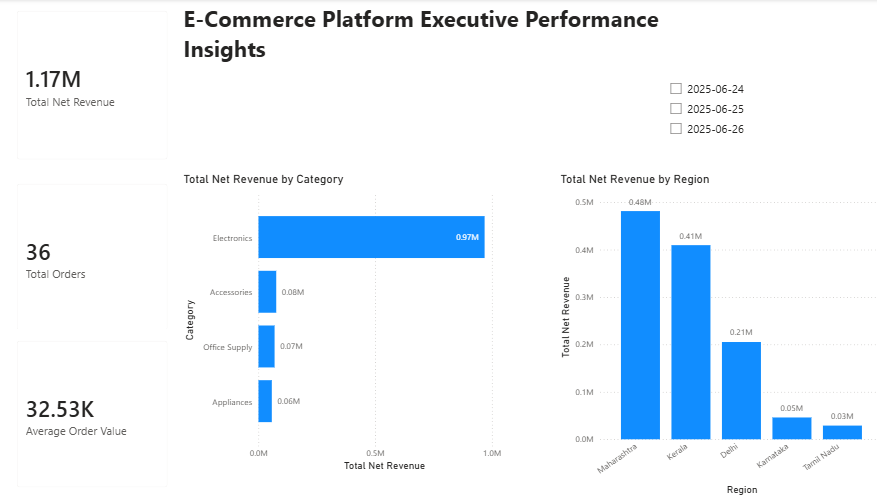

Layout of this report page (visuals, bound fields, positions):
{"tool":"powerbi","page":{"name":"Page 1","canvas":[1280,720],"ordinal":0},"visuals":[{"type":"cardVisual","fields":{"Data":["_All_Measures.Total Net Revenue"]},"box":[10.1,0,252,248.6],"z":0},{"type":"cardVisual","fields":{"Data":["_All_Measures.Total Orders"]},"box":[10.1,248.6,252,245.2],"z":1},{"type":"cardVisual","fields":{"Data":["_All_Measures.Average Order Value"]},"box":[10.1,475.4,252,245.2],"z":2},{"type":"clusteredBarChart","fields":{"Category":["dim_products.Category"],"Y":["_All_Measures.Total Net Revenue"]},"box":[262,248.6,515.7,453.5],"z":3},{"type":"clusteredColumnChart","fields":{"Category":["dim_customers.Region"],"Y":["_All_Measures.Total Net Revenue"]},"box":[777.7,248.6,502.3,472],"z":4},{"type":"slicer","fields":{"Values":["fact_sales.OrderDate"]},"box":[955.8,85.7,324.2,119.3],"z":5},{"type":"textbox","box":[262,0,821.4,110.9],"z":6}]}

Visuals, with their boxes in screenshot pixels (x1, y1, x2, y2), scaled from the page's 1280x720 canvas onto the 883x503 screenshot:
cardVisual - _All_Measures.Total Net Revenue: x1=7, y1=0, x2=181, y2=174
cardVisual - _All_Measures.Total Orders: x1=7, y1=174, x2=181, y2=345
cardVisual - _All_Measures.Average Order Value: x1=7, y1=332, x2=181, y2=502
clusteredBarChart - dim_products.Category x _All_Measures.Total Net Revenue: x1=181, y1=174, x2=536, y2=490
clusteredColumnChart - dim_customers.Region x _All_Measures.Total Net Revenue: x1=536, y1=174, x2=882, y2=502
slicer - fact_sales.OrderDate: x1=659, y1=60, x2=882, y2=143
textbox: x1=181, y1=0, x2=747, y2=77
